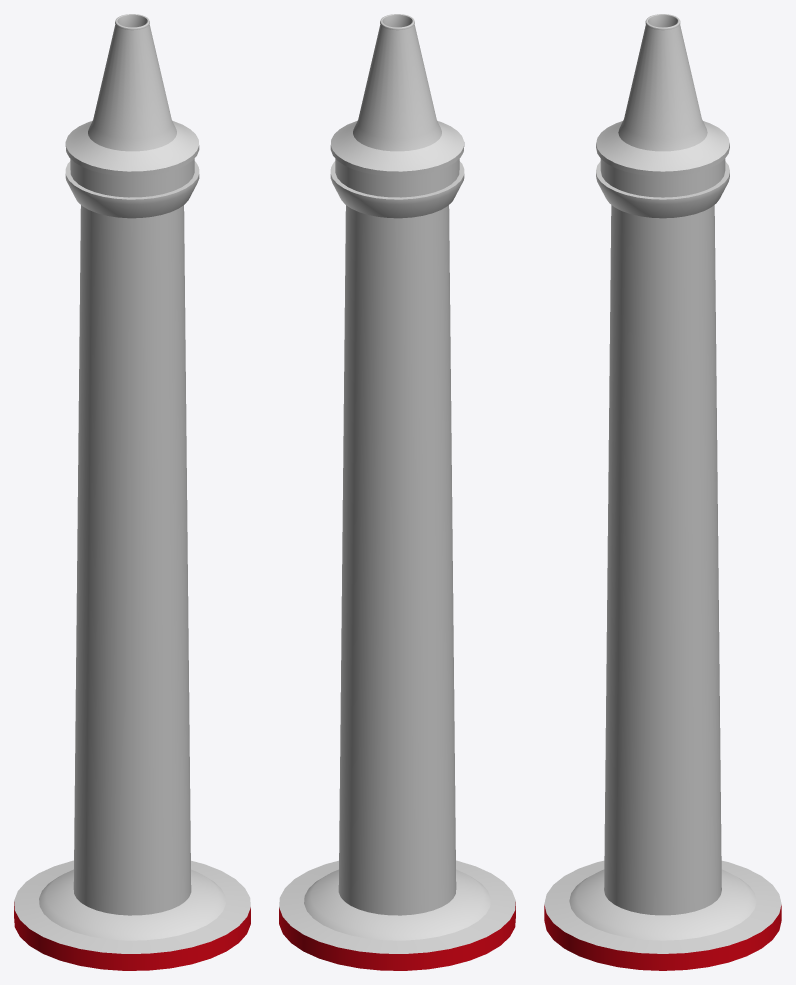
File: Nozzel Hydrant Fix.fbx
3 renders of one model, left to right at view 1: azimuth 30°, elevation 25°; view 2: azimuth 150°, elevation 25°; view 3: azimuth 270°, elevation 25°, orthographic.
Parts seen in each view (by area): view 1: Circle; view 2: Circle; view 3: Circle.
Boxes of the visible parts, bbox=[...] form: Circle: bbox=[14, 14, 250, 970]; Circle: bbox=[279, 14, 515, 970]; Circle: bbox=[544, 14, 781, 970].
Size of the model in its own units: 16.22 by 67.86 by 16.22.
